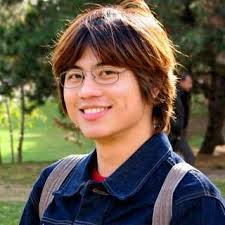bare: (63, 83, 144, 137)
